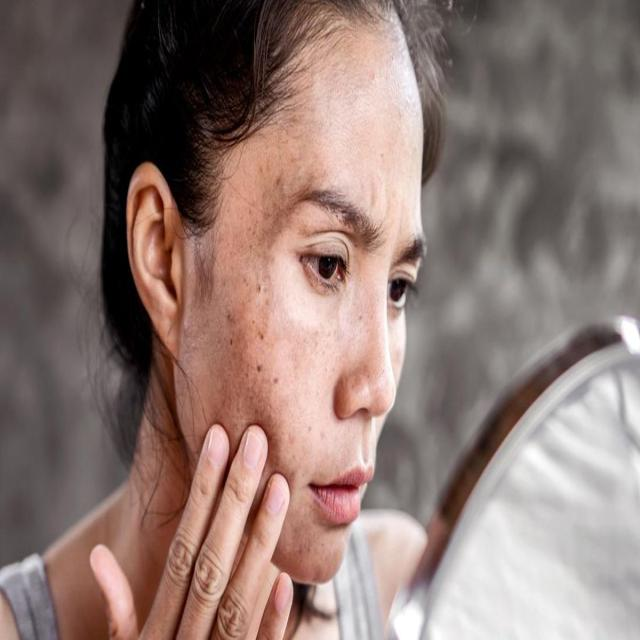Dry-Skin: (241, 365, 289, 435), (224, 280, 256, 366), (259, 145, 295, 221)
